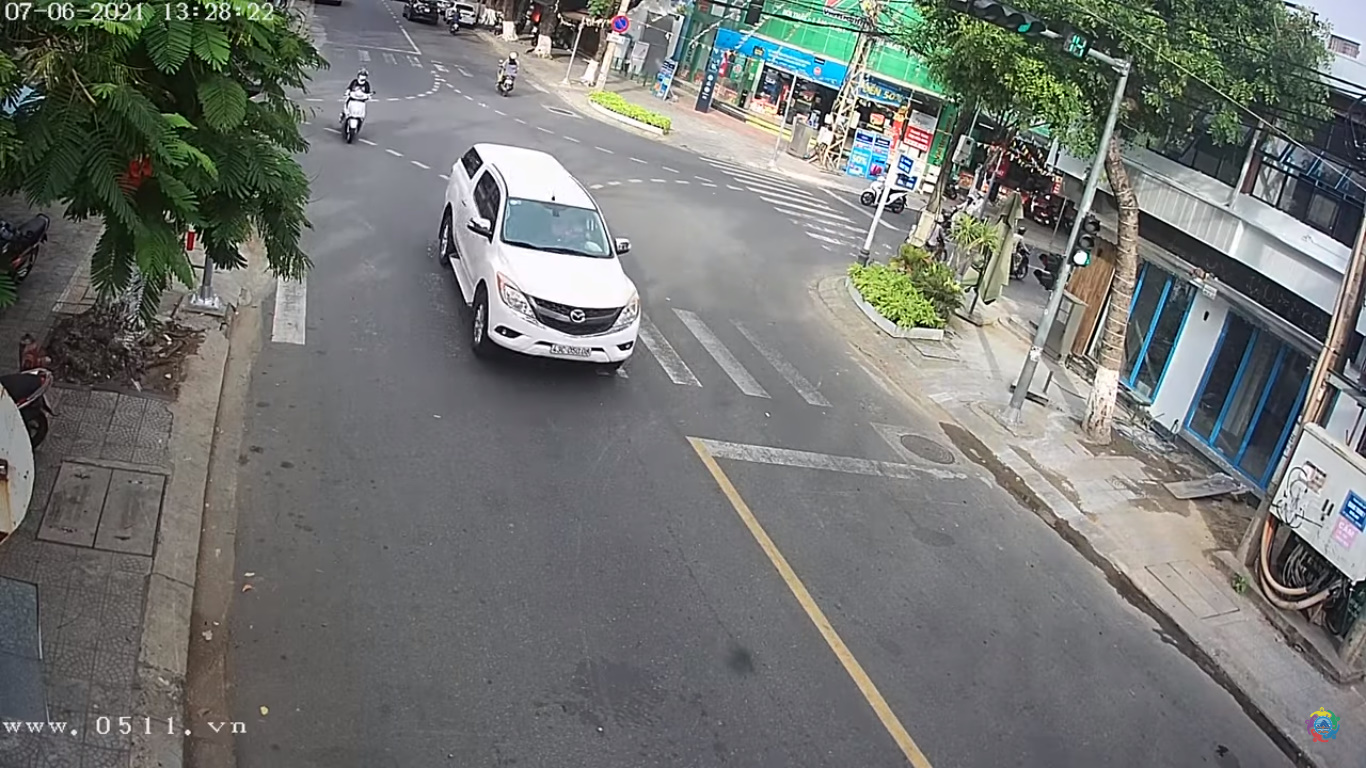car: (433, 145, 642, 368)
